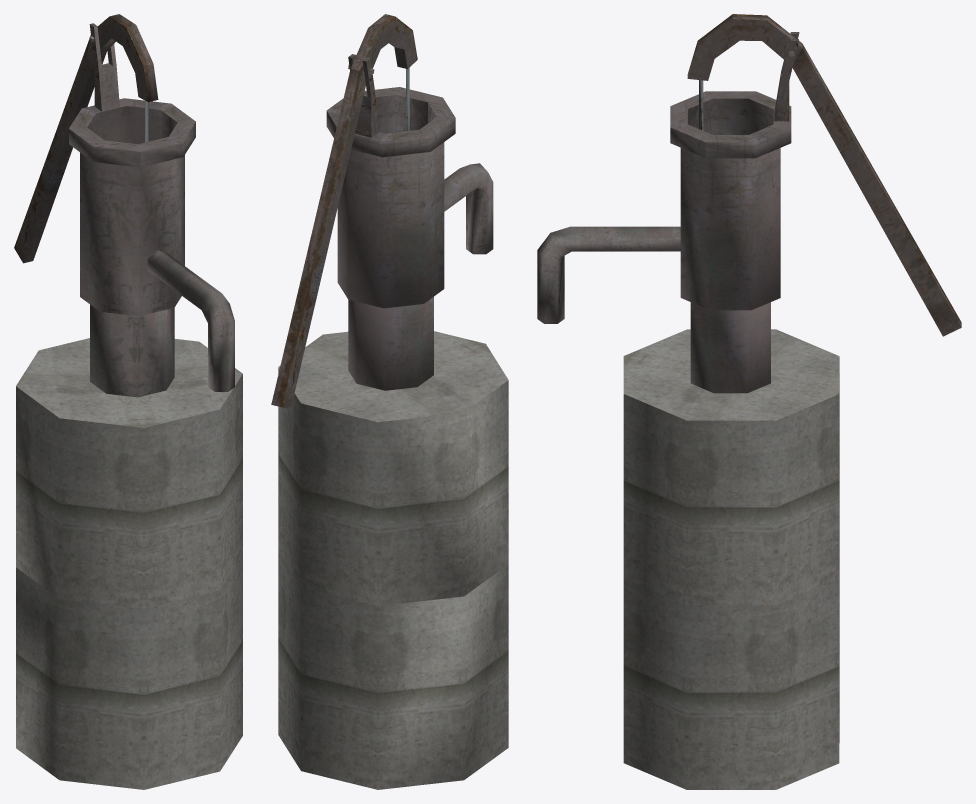
Rendered from Prop_XiuztSj01.glb.
3 views of the same model, side by side, from view 1: azimuth 30°, elevation 25°; view 2: azimuth 150°, elevation 25°; view 3: azimuth 270°, elevation 25° (orthographic).
Parts seen in each view (by area): view 1: xiuzt_sj_01; view 2: xiuzt_sj_01; view 3: xiuzt_sj_01.
Part boxes in pixels (bbox=[...]): xiuzt_sj_01: bbox=[14, 14, 242, 789]; xiuzt_sj_01: bbox=[271, 14, 508, 789]; xiuzt_sj_01: bbox=[537, 14, 961, 789].
Size of the model in its own units: 0.5513 by 2.05 by 1.08.
1 material, 1 textured.
